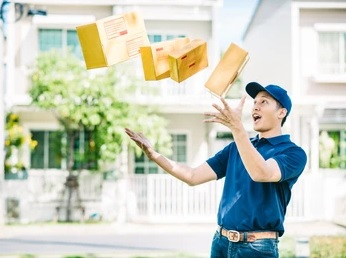unusual: (48, 10, 320, 226)
